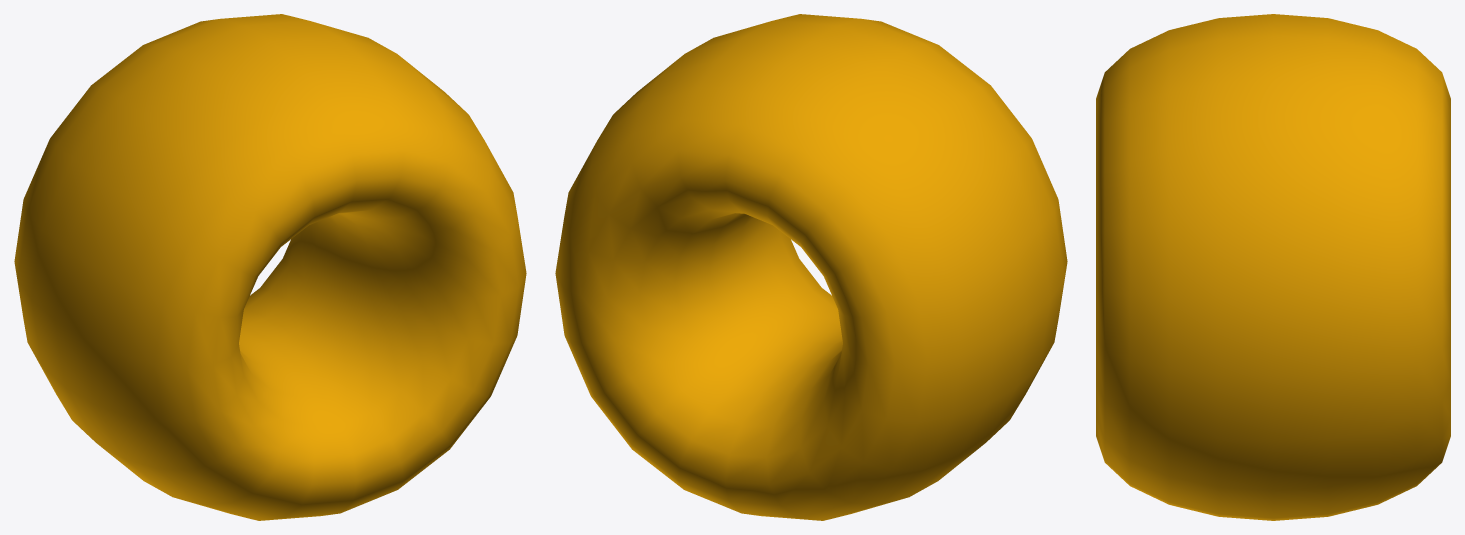
The model's file is doughnut.fbx.
The picture shows the model from 3 angles, left to right: view 1: azimuth 30°, elevation 25°; view 2: azimuth 150°, elevation 25°; view 3: azimuth 270°, elevation 25°; orthographic projection. The views are drawn at different scales.
Parts seen in each view (by area): view 1: pTorus2; view 2: pTorus2; view 3: pTorus2.
Part boxes in pixels (x1,y1,x2,y2): pTorus2: [14, 14, 526, 520]; pTorus2: [555, 14, 1067, 520]; pTorus2: [1096, 14, 1450, 520].
Size of the model in its own units: 84.24 by 84.24 by 58.5.
